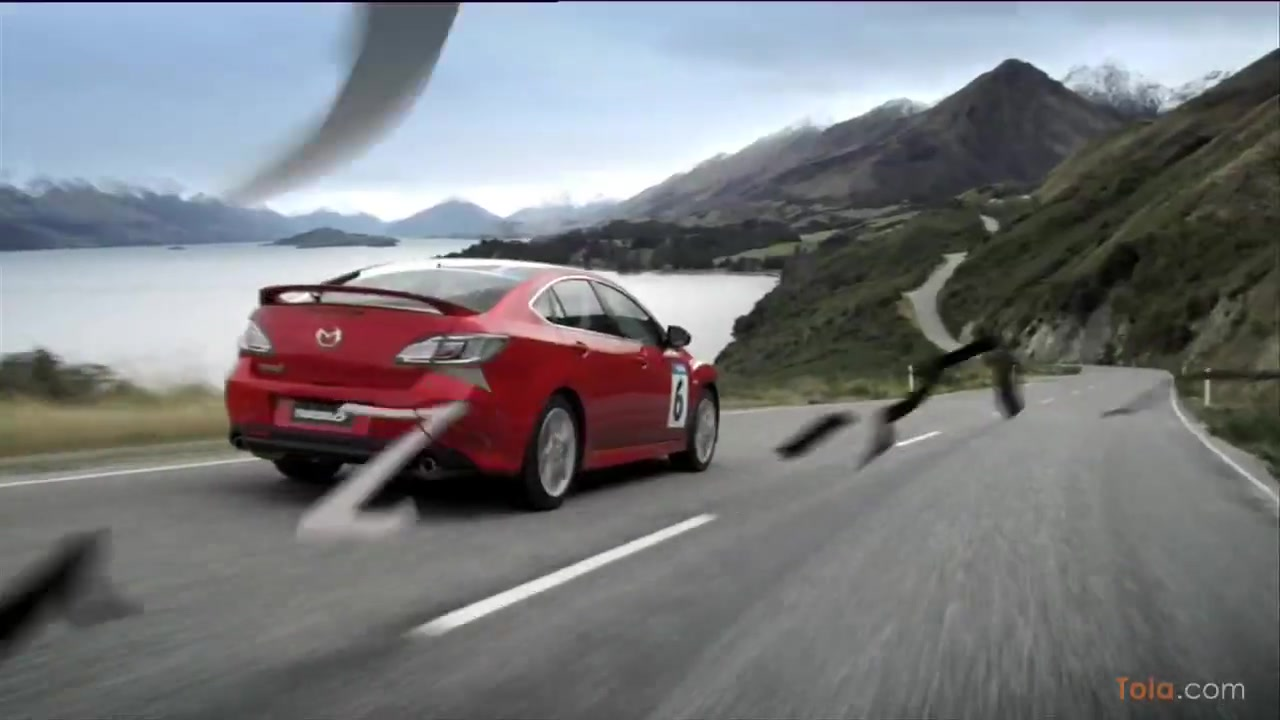car: (223, 252, 724, 513)
